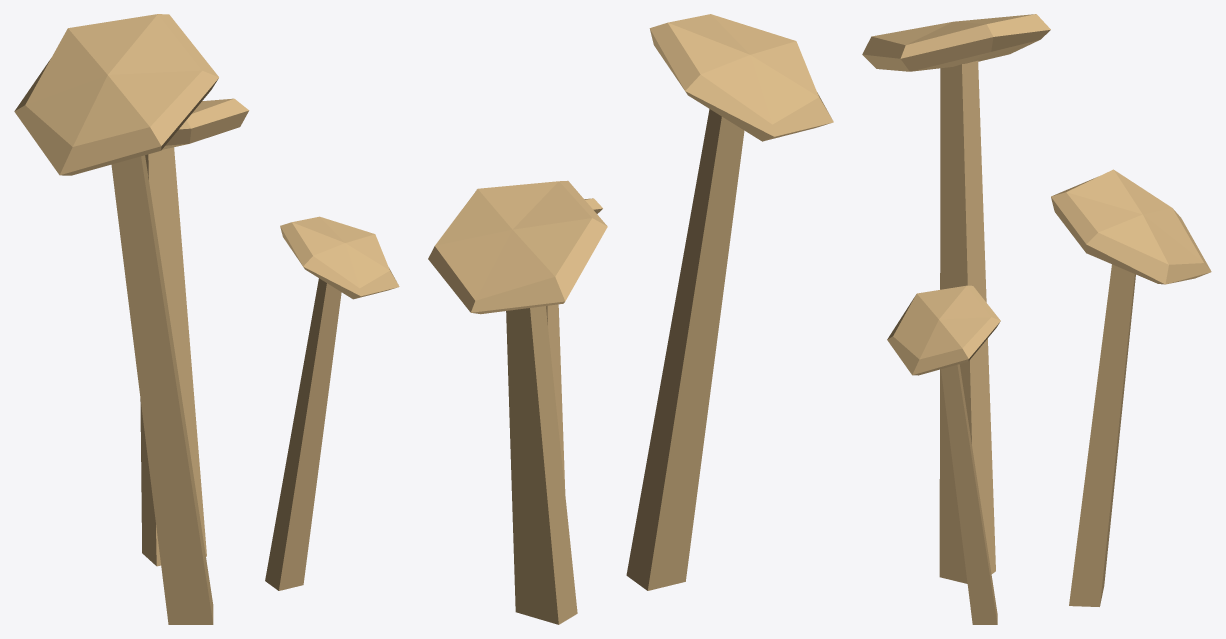
Rendered from Mega_Asset_s_Pack_Cube_381.FBX.
The picture shows the model from 3 angles, left to right: view 1: azimuth 30°, elevation 25°; view 2: azimuth 150°, elevation 25°; view 3: azimuth 270°, elevation 25°; orthographic projection. The views are drawn at different scales.
Visible parts, largest first — view 1: Mega_Asset_s_Pack_Cube_381; view 2: Mega_Asset_s_Pack_Cube_381; view 3: Mega_Asset_s_Pack_Cube_381.
Part boxes in pixels (x1,y1,x2,y2): Mega_Asset_s_Pack_Cube_381: (14, 14, 399, 624); Mega_Asset_s_Pack_Cube_381: (428, 14, 833, 624); Mega_Asset_s_Pack_Cube_381: (862, 14, 1211, 624).
Size of what is drawn, in the model's own units: 52.97 by 51.77 by 88.26.
